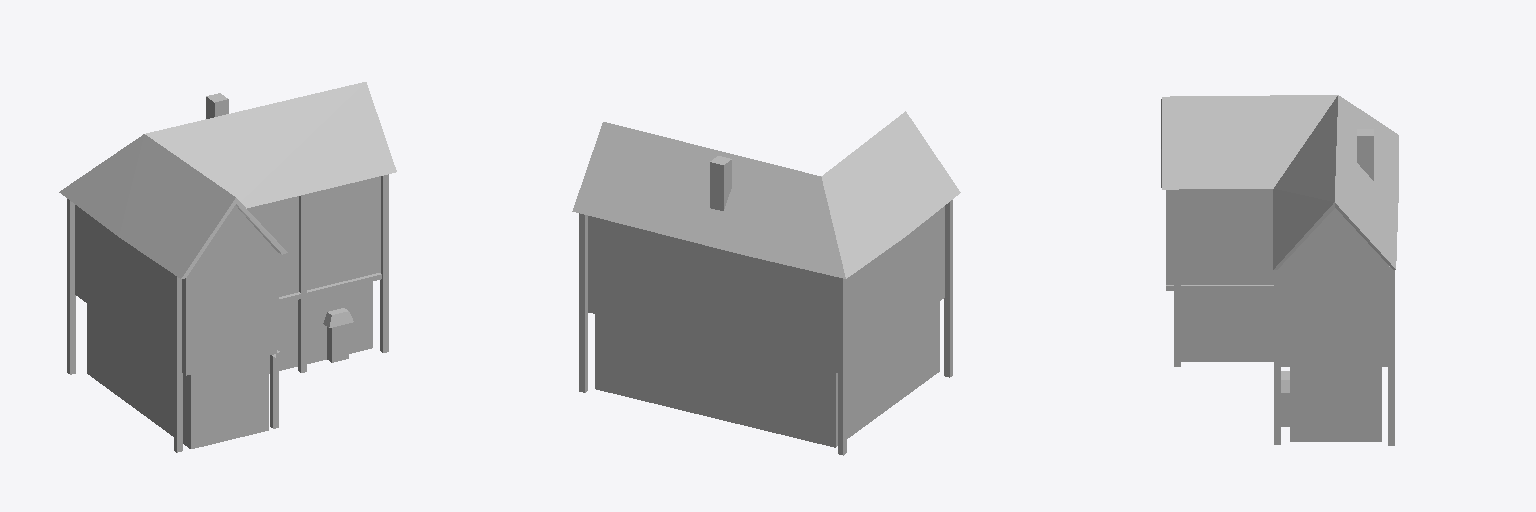
The model's file is house3.obj.
3 views of the same model, side by side, from view 1: azimuth 30°, elevation 25°; view 2: azimuth 150°, elevation 25°; view 3: azimuth 270°, elevation 25° (orthographic).
Parts seen in each view (by area): view 1: house_3; view 2: house_3; view 3: house_3.
Part boxes in pixels (bbox=[...]): house_3: bbox=[59, 82, 396, 452]; house_3: bbox=[572, 111, 960, 455]; house_3: bbox=[1161, 95, 1398, 445].
Bounding box in the file's own units: 2.87 × 2.51 × 2.15.